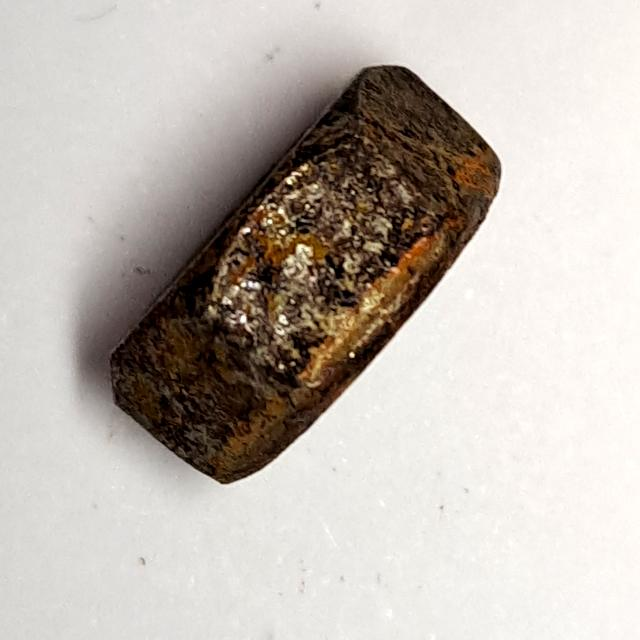Side_Rust: (96, 51, 508, 500)
